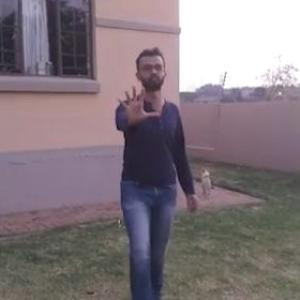follow_hand: (115, 80, 162, 131)
